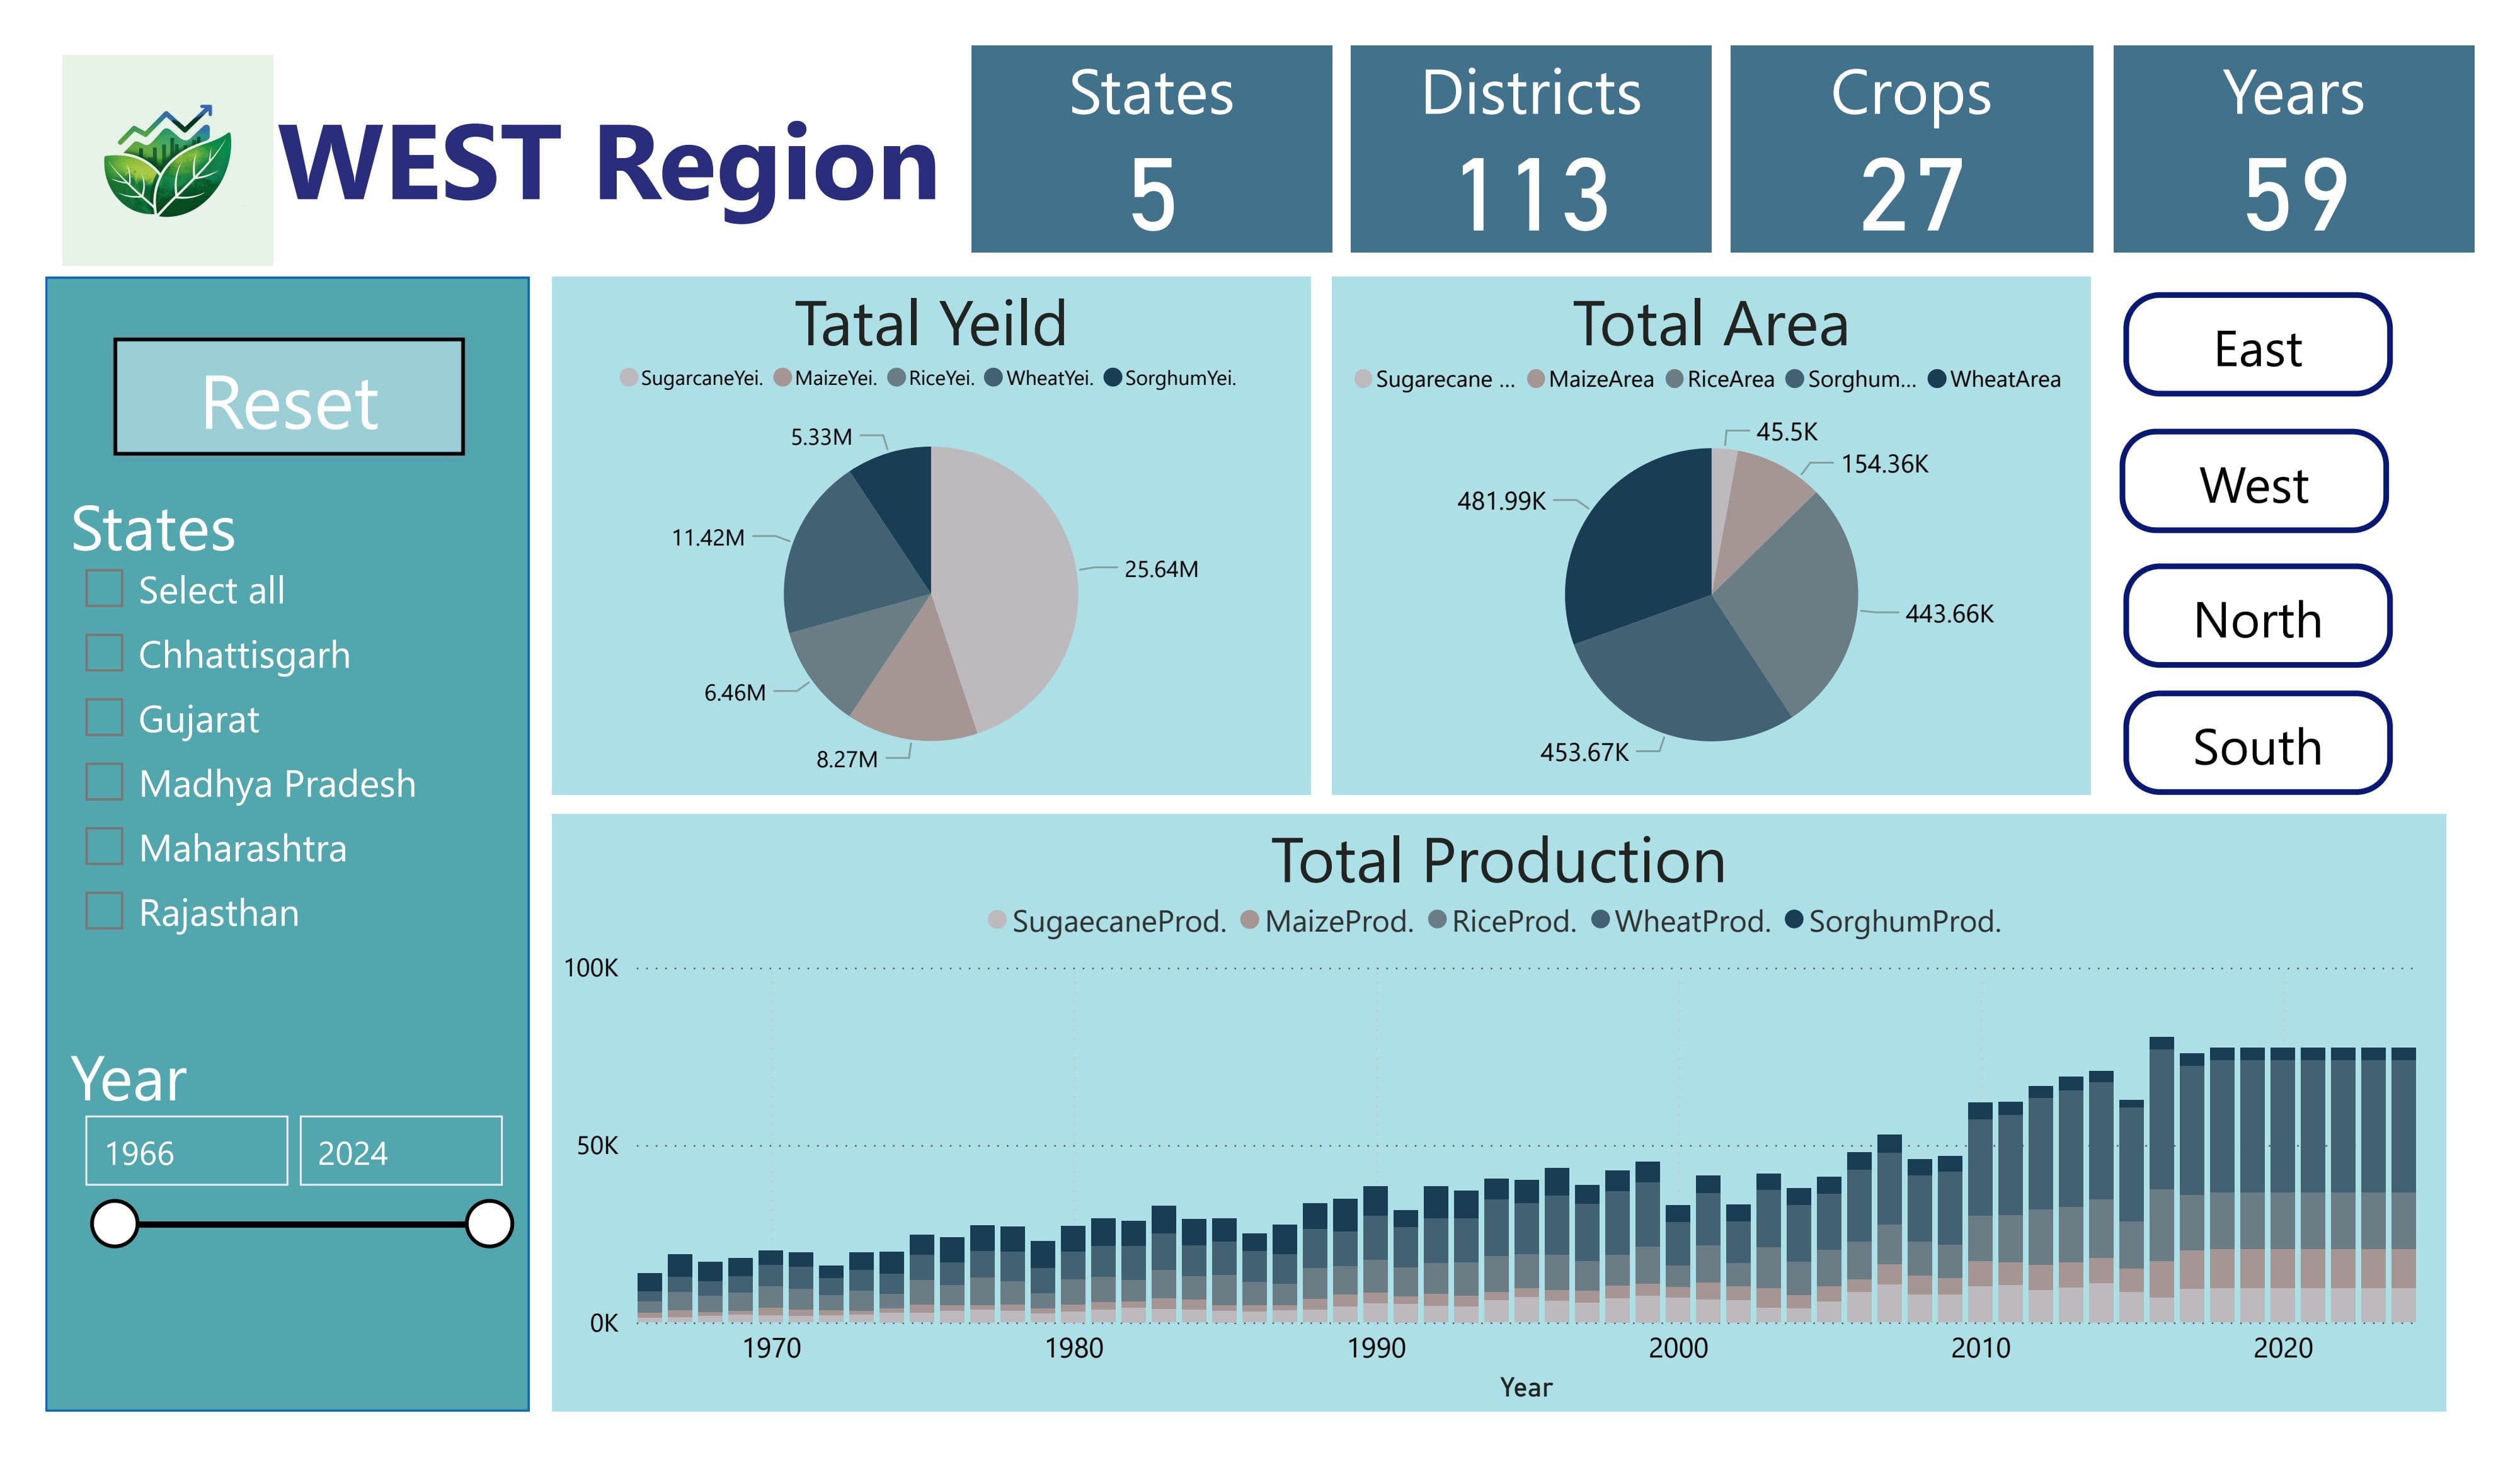

The dashboard page shown, as its layout file describes it:
{"tool":"powerbi","page":{"name":"WEST","canvas":[1280,720],"ordinal":3},"visuals":[{"type":"shape","box":[0,121.7,255,598.3],"z":0},{"type":"textbox","box":[8.6,15.8,479.5,93.6],"z":1000},{"type":"card","title":"States","fields":{"Values":["Count(WEST.State Name)"]},"box":[488.2,0,190.1,109.4],"z":2000},{"type":"card","title":"Districts","fields":{"Values":["Count(WEST.Dist Name)"]},"box":[688.3,0,190.1,109.4],"z":3000},{"type":"card","title":"Crops","fields":{"Values":["Avg(WEST.Crops)"]},"box":[888.5,0,190.1,109.4],"z":4000},{"type":"card","title":"Years","fields":{"Values":["Count(WEST.Year)"]},"box":[1090.1,0,190.1,109.4],"z":5000},{"type":"slicer","title":"States","fields":{"Values":["WEST.State Name"]},"box":[8.3,230,246.7,260],"z":6000},{"type":"slicer","title":"Year","fields":{"Values":["WEST.Year"]},"box":[8.3,520,246.7,143.3],"z":7000},{"type":"pieChart","title":"Total Area","fields":{"Y":["WEST.Sugarecane Area","WEST.MaizeArea","WEST.RiceArea","WEST.SorghumArea","WEST.WheatArea"]},"box":[678.3,121.7,400,273.3],"z":8000},{"type":"pieChart","title":"Tatal Yeild","fields":{"Y":["WEST.SugarcaneYei.","WEST.MaizeYei.","WEST.RiceYei.","WEST.WheatYei.","WEST.SorghumYei."]},"box":[266.7,121.7,400,273.3],"z":9000},{"type":"lineStackedColumnComboChart","title":"Total Production","fields":{"Y":["WEST.SugaecaneProd.","WEST.MaizeProd.","WEST.RiceProd.","WEST.WheatProd.","WEST.SorghumProd."],"Category":["WEST.Year"]},"box":[266.7,405,998.3,315],"z":10000},{"type":"actionButton","box":[31.7,150,193.3,70],"z":11000},{"type":"actionButton","title":"West","box":[1093.3,201.7,141.7,55],"z":12000},{"type":"actionButton","box":[1095,273.3,141.7,55],"z":13000},{"type":"actionButton","box":[1095,340,141.7,55],"z":14000},{"type":"actionButton","box":[1095,130,141.7,55],"z":15000},{"type":"image","box":[0,0,128.2,121],"z":15001}]}

Visuals, with their boxes in screenshot pixels (x1, y1, x2, y2), scaled from the page's 1280x720 canvas onto the 2520x1457 screenshot:
shape: BBox(0, 246, 502, 1456)
textbox: BBox(17, 32, 961, 221)
"States" card: BBox(961, 0, 1336, 221)
"Districts" card: BBox(1355, 0, 1729, 221)
"Crops" card: BBox(1750, 0, 2124, 221)
"Years" card: BBox(2146, 0, 2519, 221)
"States" slicer: BBox(16, 466, 502, 991)
"Year" slicer: BBox(16, 1052, 502, 1342)
"Total Area" pieChart: BBox(1336, 246, 2123, 799)
"Tatal Yeild" pieChart: BBox(525, 246, 1312, 799)
"Total Production" lineStackedColumnComboChart: BBox(525, 820, 2490, 1456)
actionButton: BBox(62, 304, 443, 445)
"West" actionButton: BBox(2153, 408, 2431, 520)
actionButton: BBox(2156, 553, 2435, 665)
actionButton: BBox(2156, 688, 2435, 799)
actionButton: BBox(2156, 263, 2435, 374)
image: BBox(0, 0, 253, 245)
